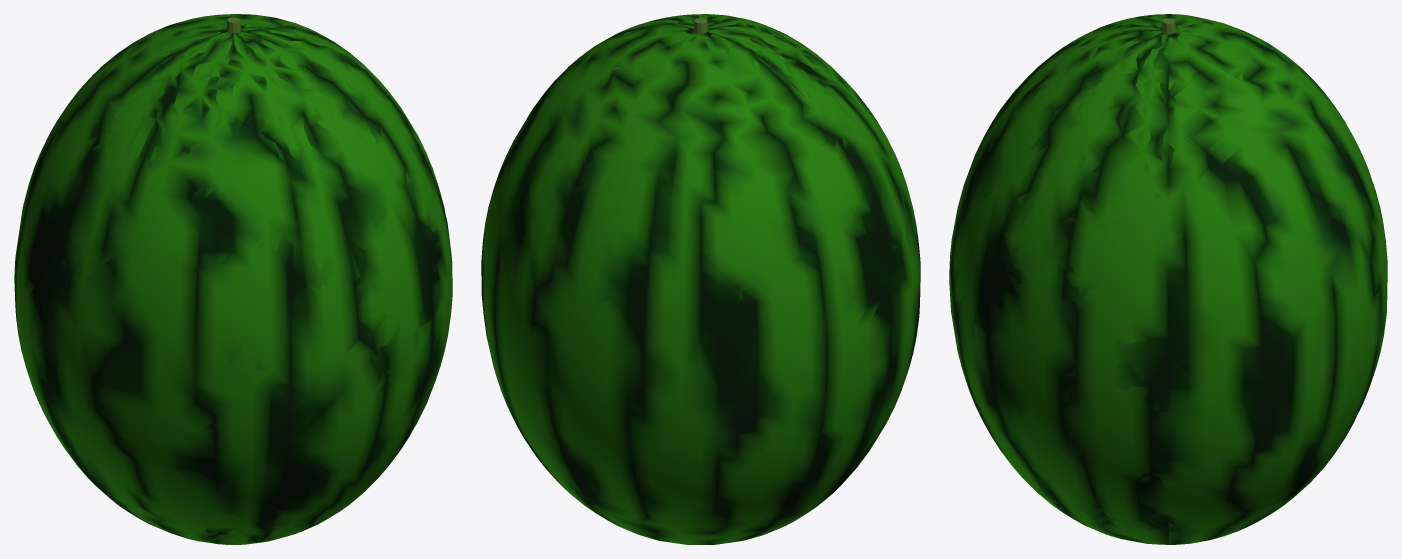
Rendered from pasteque.glb.
3 renders of one model, left to right at view 1: azimuth 30°, elevation 25°; view 2: azimuth 150°, elevation 25°; view 3: azimuth 270°, elevation 25°, orthographic.
Parts seen in each view (by area): view 1: moitie_B_peau, entier_peau, moitie_A_peau; view 2: moitie_A_peau, entier_peau, moitie_B_peau; view 3: entier_peau, moitie_A_peau, moitie_B_peau.
Boxes of the visible parts, x1,y1,x2,y2 form: moitie_B_peau: (43,26,452,544); entier_peau: (14,14,452,544); moitie_A_peau: (15,14,331,494); moitie_A_peau: (481,26,891,544); entier_peau: (481,14,920,544); moitie_B_peau: (601,14,920,496); entier_peau: (949,14,1387,544); moitie_A_peau: (1168,14,1386,544); moitie_B_peau: (949,14,1168,544).
Size of the model in its own units: 1.6 by 2.04 by 1.6.
